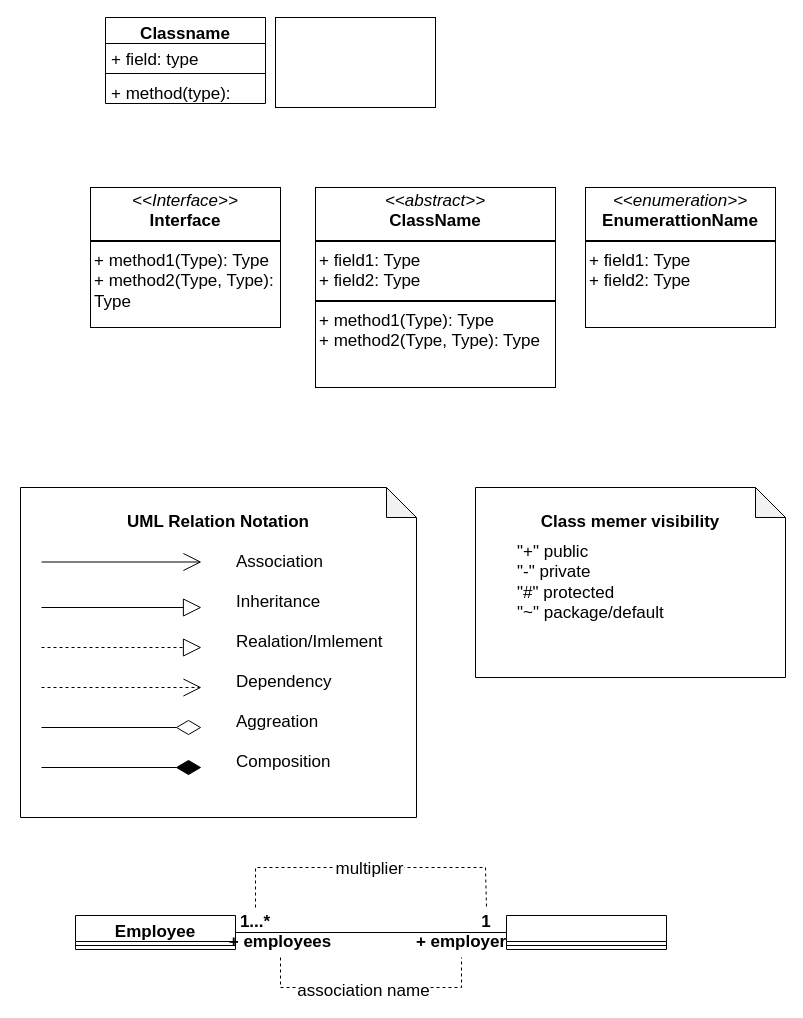
Some shapes in this 803 by 1018 pixel diagram are drawn without their labels. Here are the shapes that lost their labels. From the top down, the centre of each, then its label:
At pixel 355 62: "Class + field: Type + method(): Type".
At pixel 586 932: "Company".
